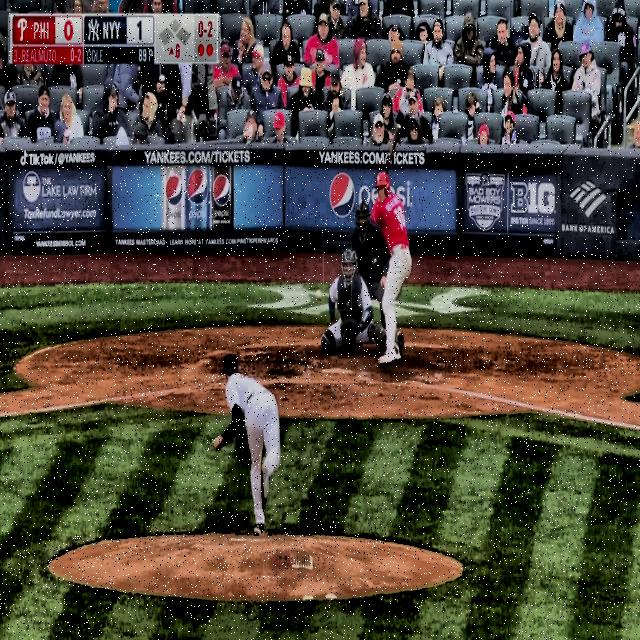baseball: (315, 289, 322, 300)
